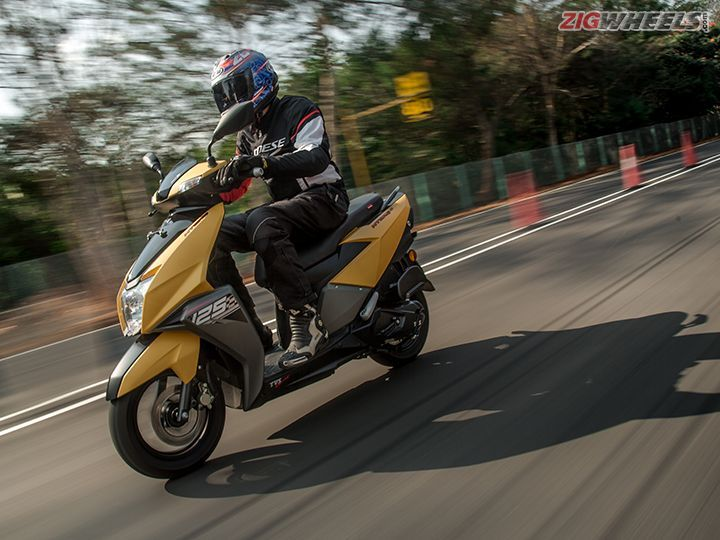with_helmet: (206, 50, 283, 123)
